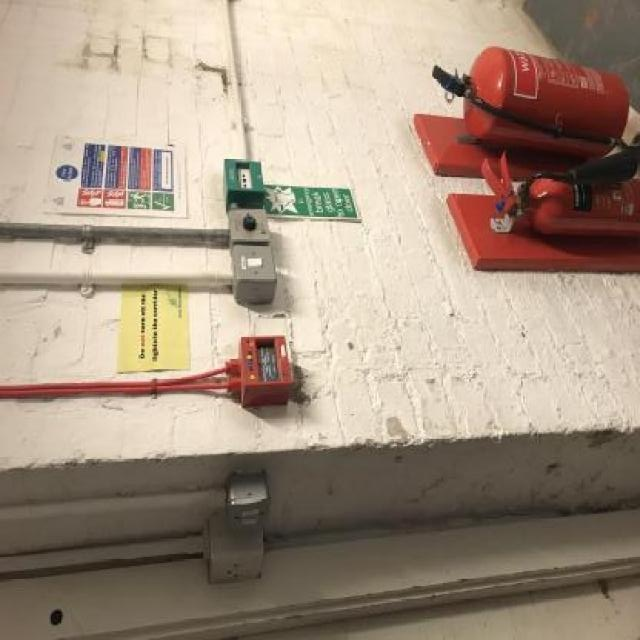fire extinguisher: (431, 45, 629, 158), (481, 149, 640, 244)
